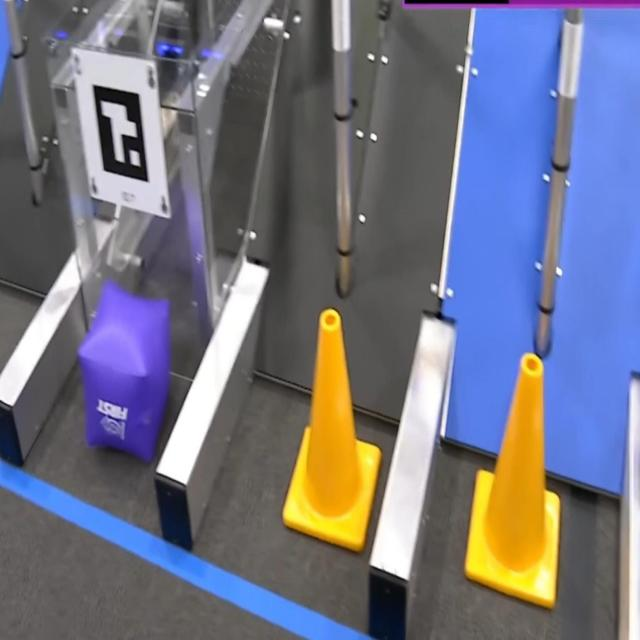frc_cone: (466, 349, 563, 610), (282, 309, 376, 546)
frc_cube: (80, 284, 170, 464)
